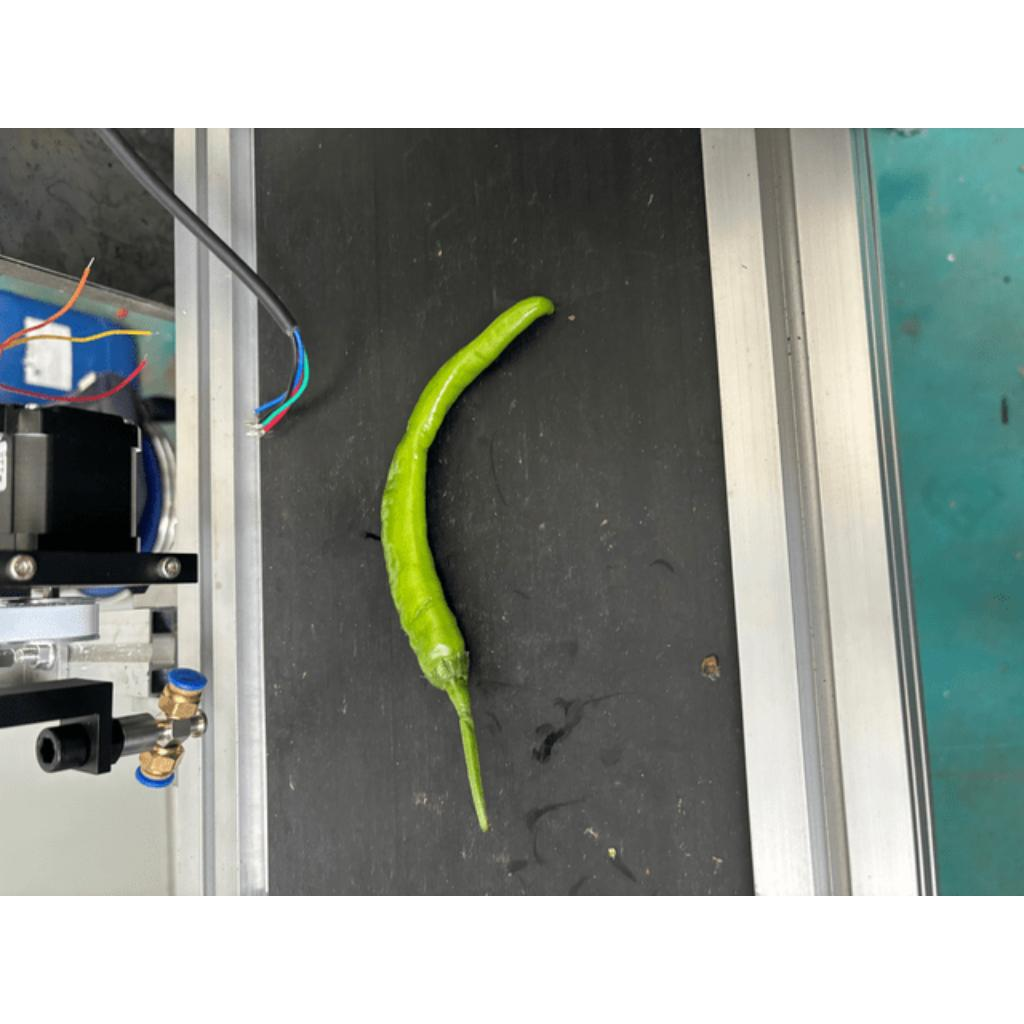chili: (379, 290, 556, 694)
